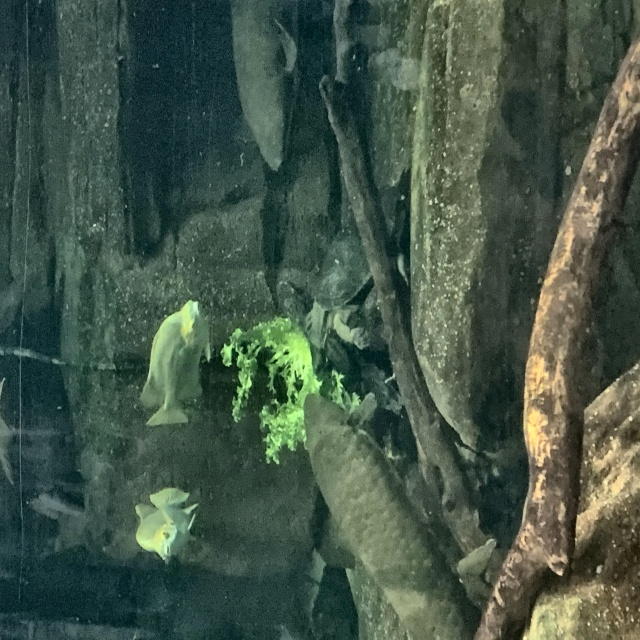fish: (138, 297, 212, 429), (133, 486, 201, 566)
